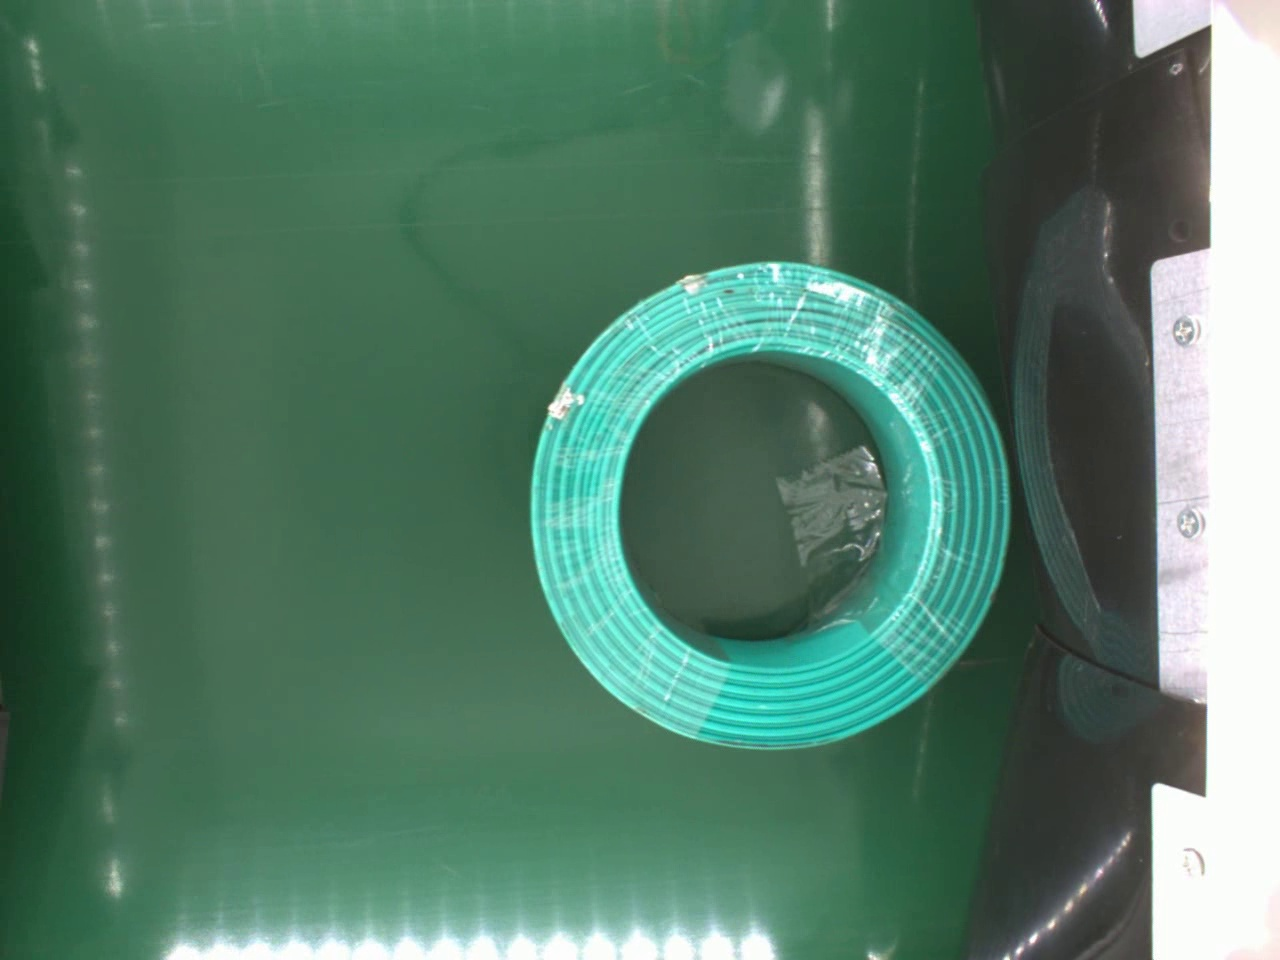green: (521, 251, 1024, 765)
